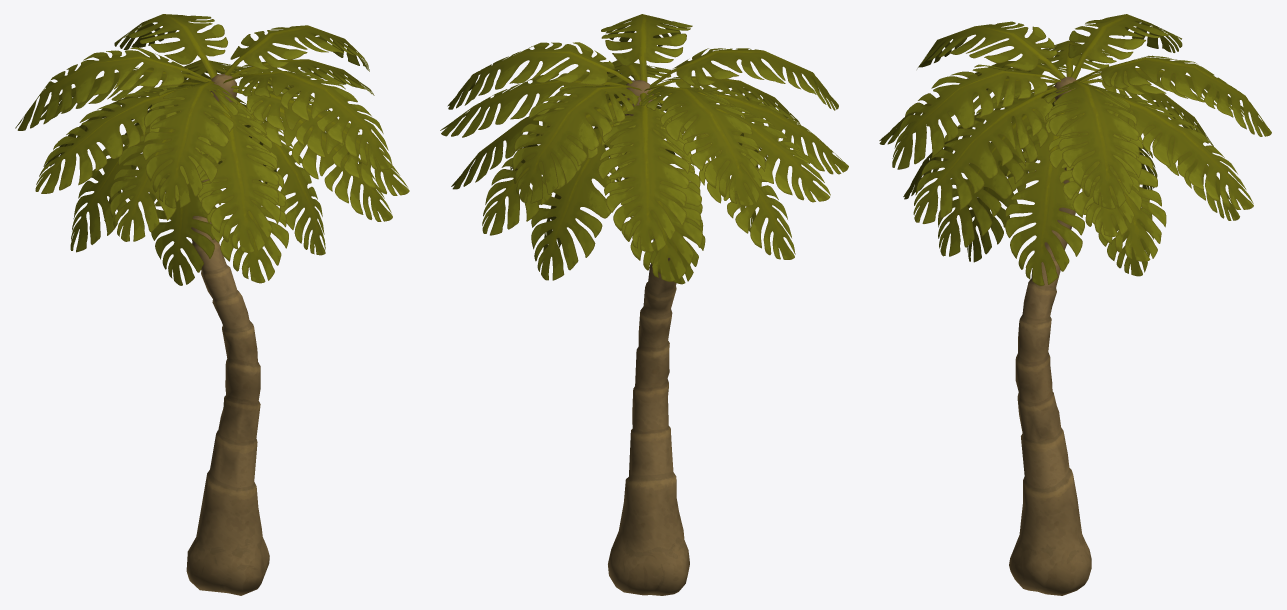
File: SM_tree_01.fbx
The picture shows the model from 3 angles, left to right: view 1: azimuth 30°, elevation 25°; view 2: azimuth 150°, elevation 25°; view 3: azimuth 270°, elevation 25°; orthographic projection.
Parts seen in each view (by area): view 1: SM_tree_01_LOD0; view 2: SM_tree_01_LOD0; view 3: SM_tree_01_LOD0.
Part boxes in pixels (x1,y1,x2,y2): SM_tree_01_LOD0: (15,14,409,595); SM_tree_01_LOD0: (440,14,848,595); SM_tree_01_LOD0: (879,14,1271,595).
Bounding box in the file's own units: 736 × 693 × 1027.
2 materials, 2 textured.
